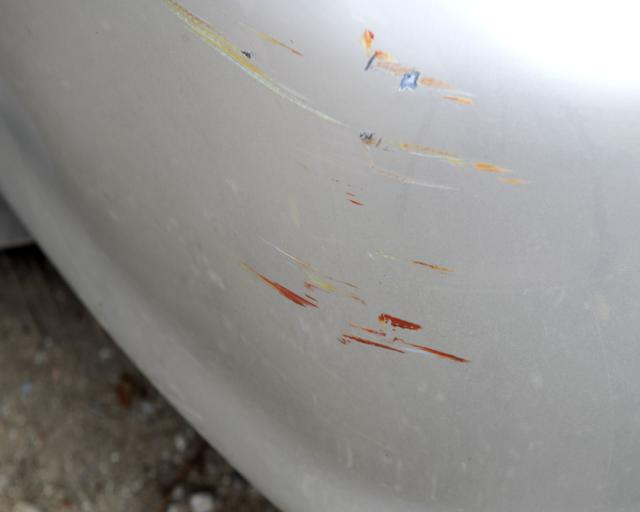scratch: (165, 0, 542, 370)
